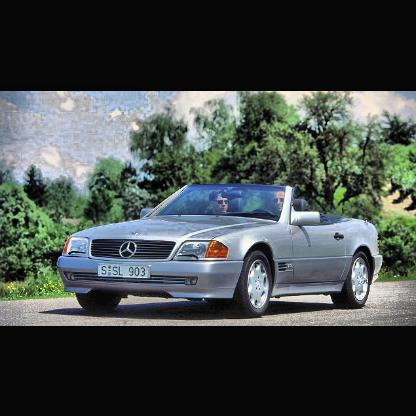Mercedes-Benz 300-Class Convertible 1993: (57, 184, 386, 319)
